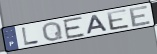A: (87, 14, 110, 35)
E: (62, 15, 86, 40), (106, 8, 132, 31), (128, 4, 152, 28)
L: (21, 26, 40, 46)
Q: (41, 21, 65, 42)
